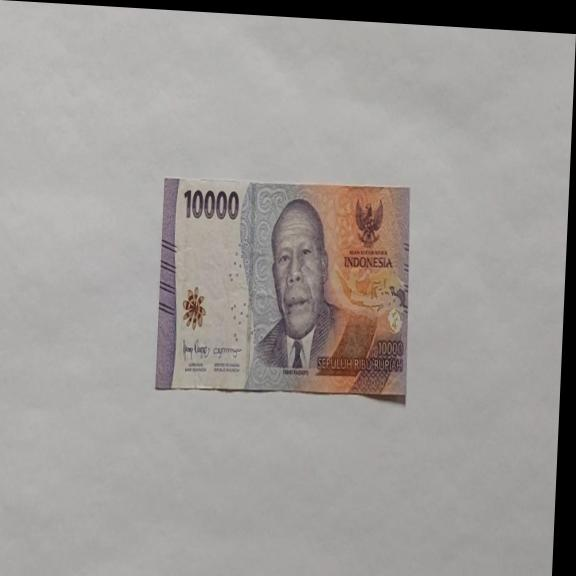Kertas: (154, 171, 416, 405)
